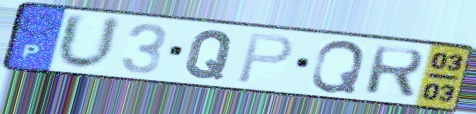3: (120, 22, 169, 75)
P: (234, 32, 296, 86)
Q: (308, 39, 368, 95), (182, 28, 237, 81)
R: (362, 44, 428, 100)
U: (53, 11, 125, 73)
